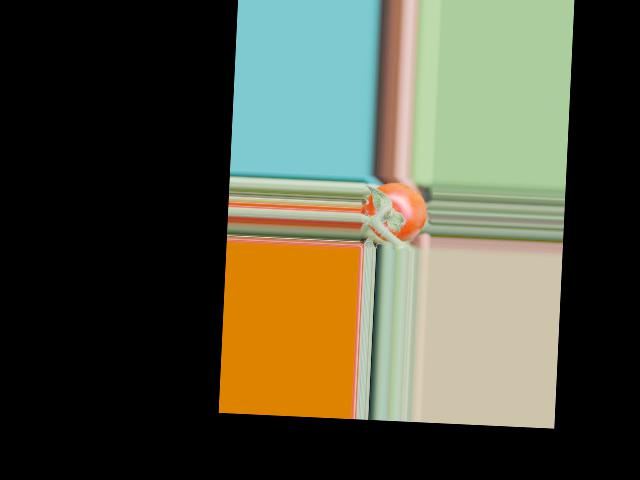tomato: (360, 180, 427, 244)
